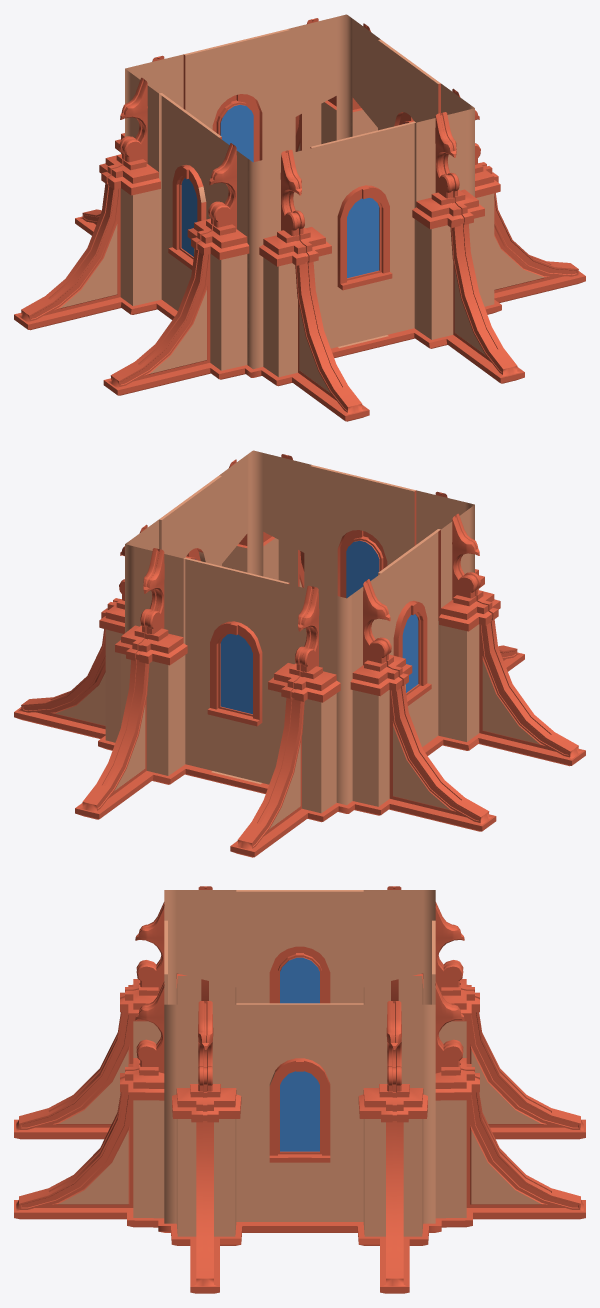
Rendered from TowerFloor1.fbx.
The picture shows the model from 3 angles, top to bottom: view 1: azimuth 30°, elevation 25°; view 2: azimuth 150°, elevation 25°; view 3: azimuth 270°, elevation 25°; orthographic projection. The views are drawn at different scales.
Visible parts, largest first — view 1: TowerFloor1; view 2: TowerFloor1; view 3: TowerFloor1.
Boxes of the visible parts, left/top/right/bottom form: TowerFloor1: left=14, top=14, right=585, bottom=421; TowerFloor1: left=14, top=450, right=585, bottom=857; TowerFloor1: left=14, top=886, right=585, bottom=1293.
Size of the model in its own units: 12.2 by 5.46 by 12.2.
